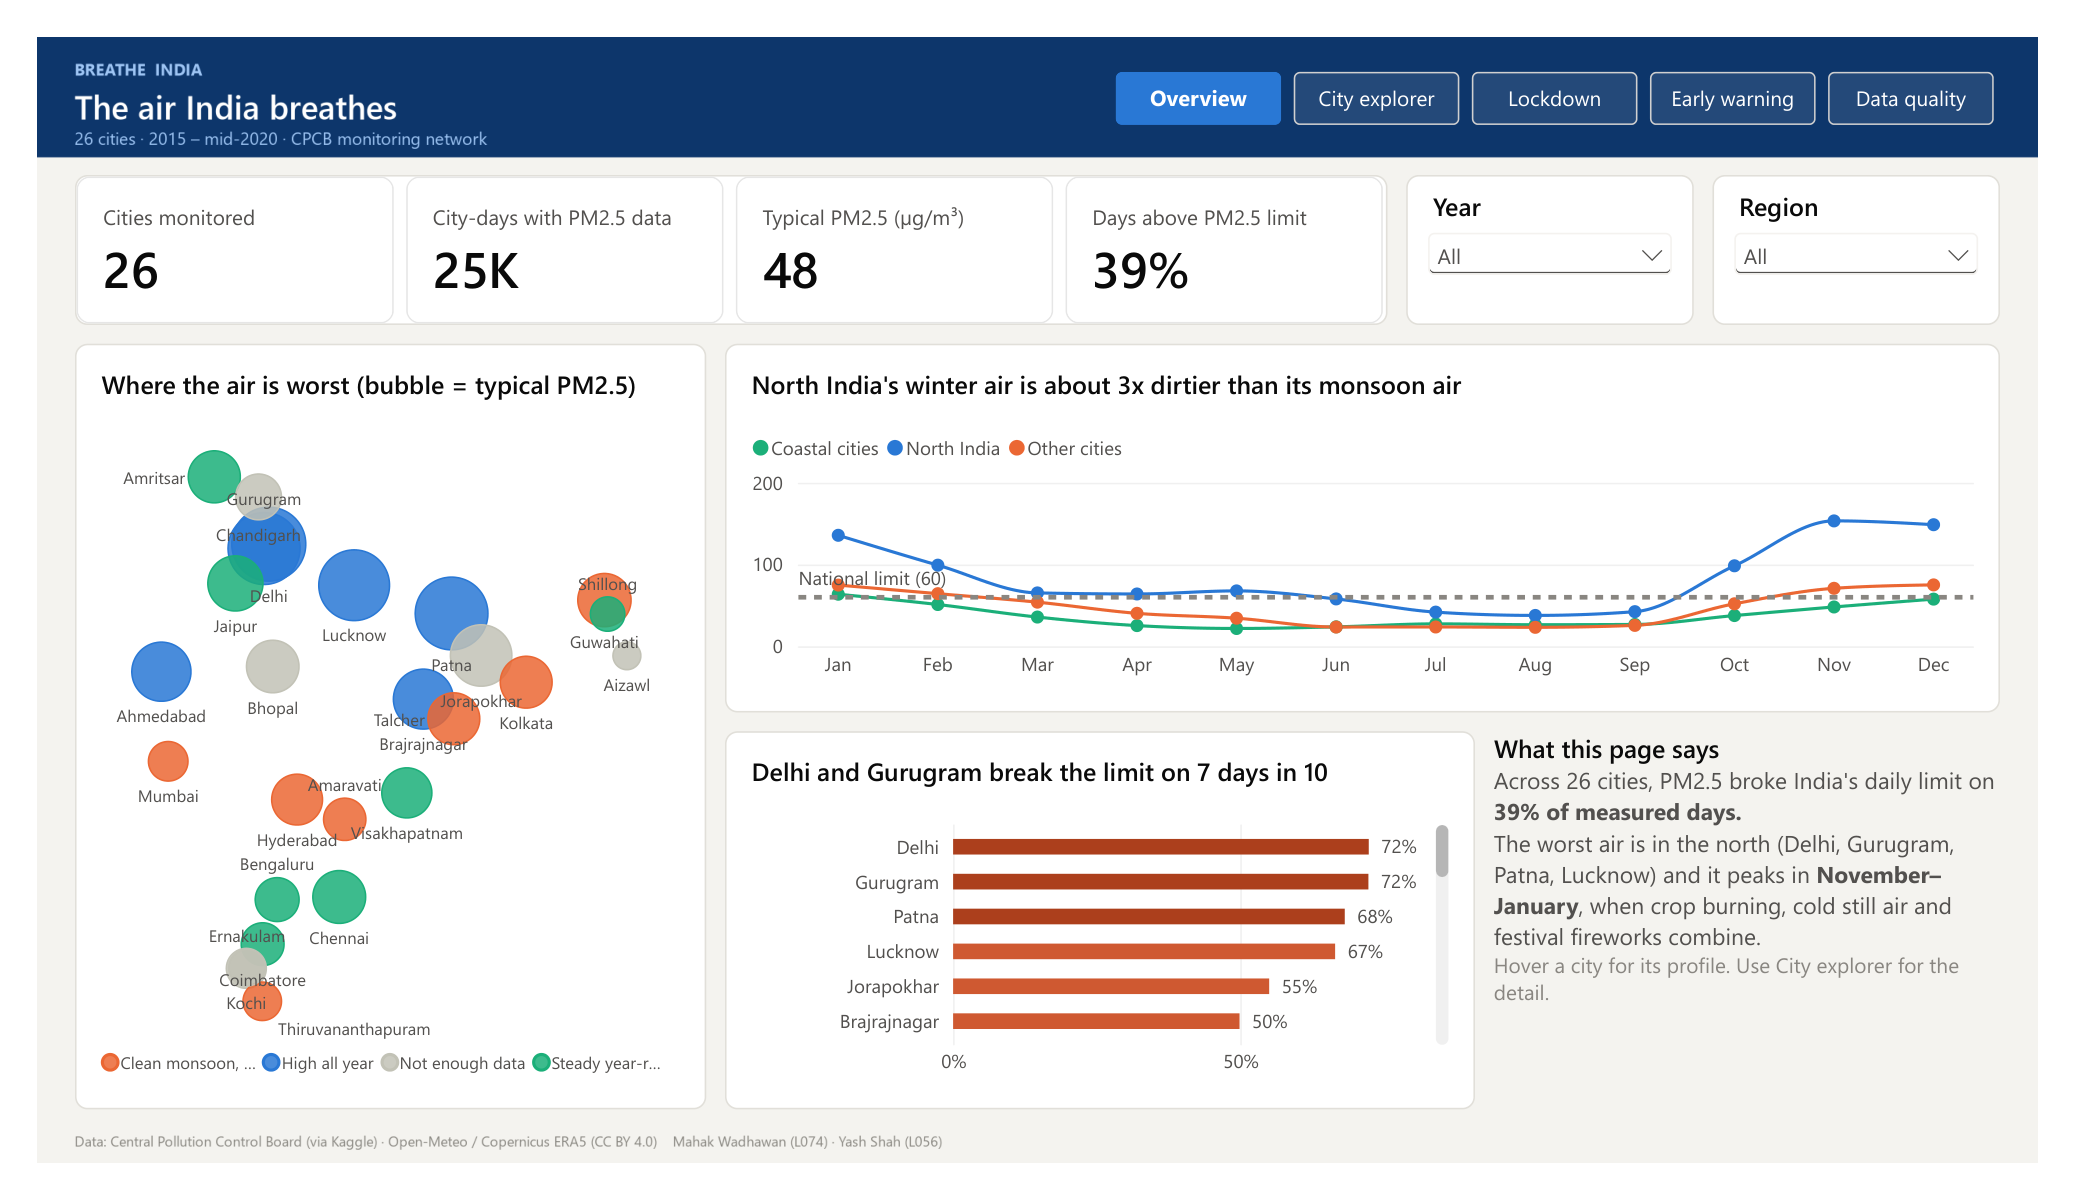

The dashboard page shown, as its layout file describes it:
{"tool":"powerbi","page":{"name":"Overview","canvas":[1280,720],"ordinal":0},"visuals":[{"type":"cardVisual","fields":{"Data":["_Measures.Cities","_Measures.Days Measured","_Measures.Median PM2.5","_Measures.% Days Above Standard"]},"box":[24,88,840,96],"z":1000},{"type":"slicer","fields":{"Values":["dim_date.Year"]},"box":[876,88,184,96],"z":1000},{"type":"slicer","fields":{"Values":["dim_city.Region"]},"box":[1072,88,184,96],"z":1000},{"type":"scatterChart","title":"Where the air is worst (bubble = typical PM2.5)","fields":{"Category":["dim_city.City"],"Series":["dim_city.cluster"],"Size":["_Measures.Median PM2.5"],"X":["Avg(dim_city.longitude)"],"Y":["Avg(dim_city.latitude)"]},"box":[24,196,404,490],"z":1000},{"type":"lineChart","title":"North India''s winter air is about 3x dirtier than its monsoon air","fields":{"Category":["dim_date.MonthName"],"Series":["fact_city_day.city_group"],"Y":["_Measures.Median PM2.5"]},"box":[440,196,816,236],"z":1000},{"type":"clusteredBarChart","title":"Delhi and Gurugram break the limit on 7 days in 10","fields":{"Category":["dim_city.City"],"Y":["_Measures.% Days Above Standard"]},"box":[440,444,480,242],"z":1000},{"type":"textbox","box":[932,444,324,242],"z":1000},{"type":"pageNavigator","box":[690,22,566,34],"z":5000}]}

Visuals, with their boxes on the page's 1280x720 design canvas (x1, y1, x2, y2). These are canvas units, not pixel positions in the 2075x1200 screenshot, which may show the page scaled, cropped or inside an application window:
cardVisual - _Measures.Cities x _Measures.Days Measured: Rect(24, 88, 864, 184)
slicer - dim_date.Year: Rect(876, 88, 1060, 184)
slicer - dim_city.Region: Rect(1072, 88, 1256, 184)
"Where the air is worst (bubble = typical PM2.5)" scatterChart: Rect(24, 196, 428, 686)
"North India''s winter air is about 3x dirtier than its monsoon air" lineChart: Rect(440, 196, 1256, 432)
"Delhi and Gurugram break the limit on 7 days in 10" clusteredBarChart: Rect(440, 444, 920, 686)
textbox: Rect(932, 444, 1256, 686)
pageNavigator: Rect(690, 22, 1256, 56)
